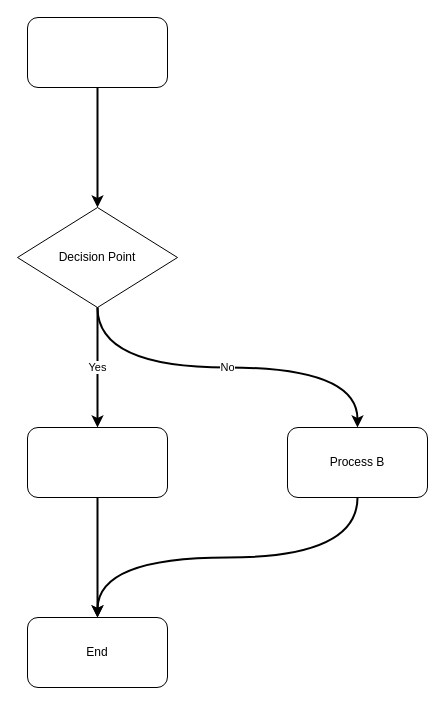
Some shapes in this 445 by 705 pixel diagram are drawn without their labels. Each missing label, with the centre of its shape:
Process A: (x=97, y=462)
Start: (x=97, y=52)
